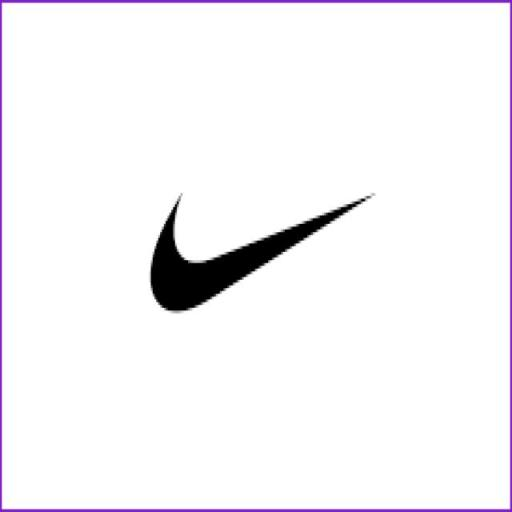Nike: (147, 173, 378, 328)
